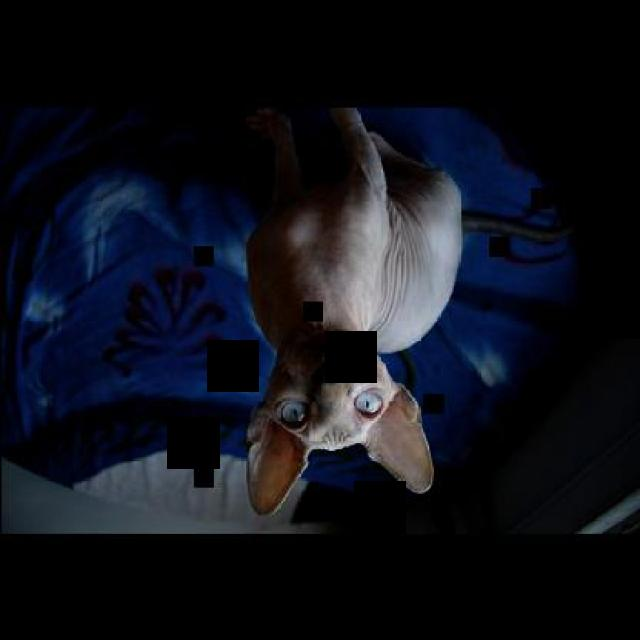unauthorized: (0, 100, 466, 523), (240, 103, 463, 517)
